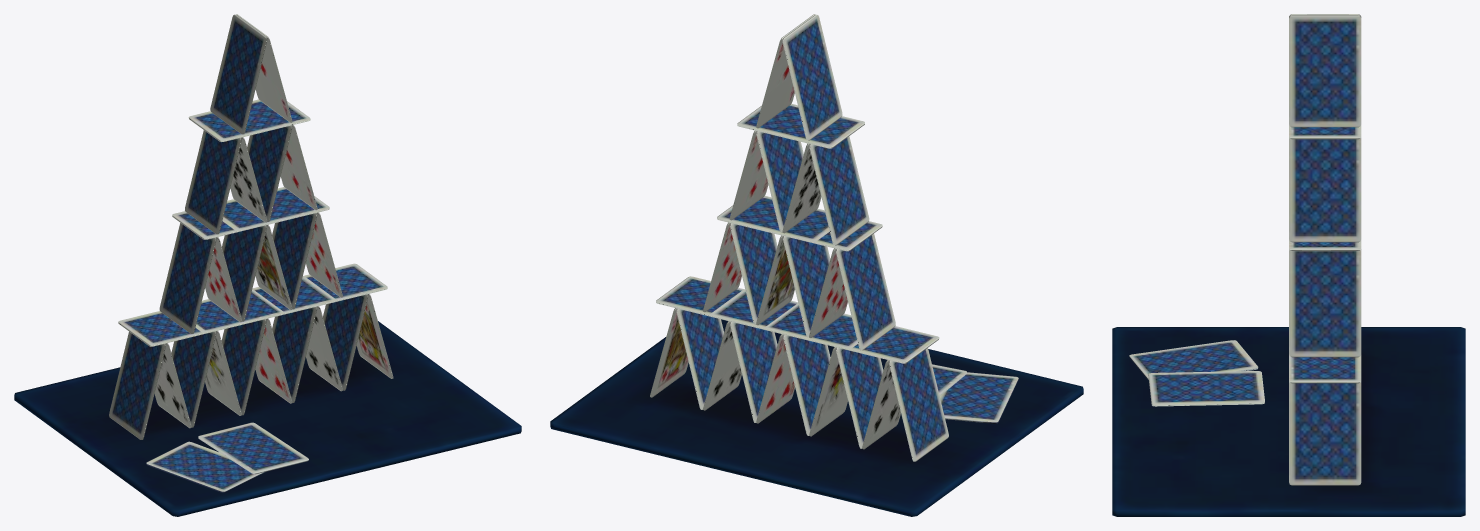
3 renders of one model, left to right at view 1: azimuth 30°, elevation 25°; view 2: azimuth 150°, elevation 25°; view 3: azimuth 270°, elevation 25°, orthographic. The views are drawn at different scales.
Size of the model in its own units: 8.11 by 8.39 by 6.55.
Materials: 1 (1 with a texture image).
